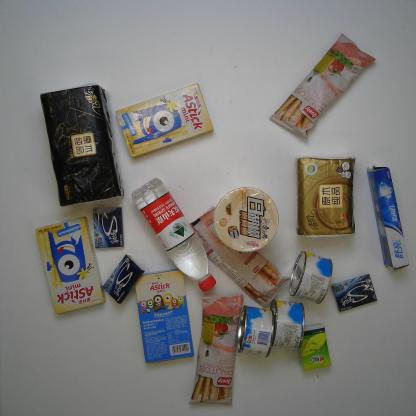Canned Food: (286, 249, 334, 306), (237, 303, 275, 359), (271, 296, 307, 352)
Dessert: (267, 32, 378, 141), (188, 204, 292, 313), (113, 82, 216, 160), (34, 215, 107, 319), (187, 290, 244, 408), (135, 266, 194, 366)
Drink: (131, 178, 217, 292)
Gum: (101, 255, 145, 306), (330, 273, 379, 312), (92, 202, 124, 252)
Instant Noodles: (213, 186, 282, 255)
Personal Hygiene: (365, 164, 411, 272)
Tissue: (38, 83, 124, 207), (294, 155, 358, 238), (299, 326, 331, 372)
